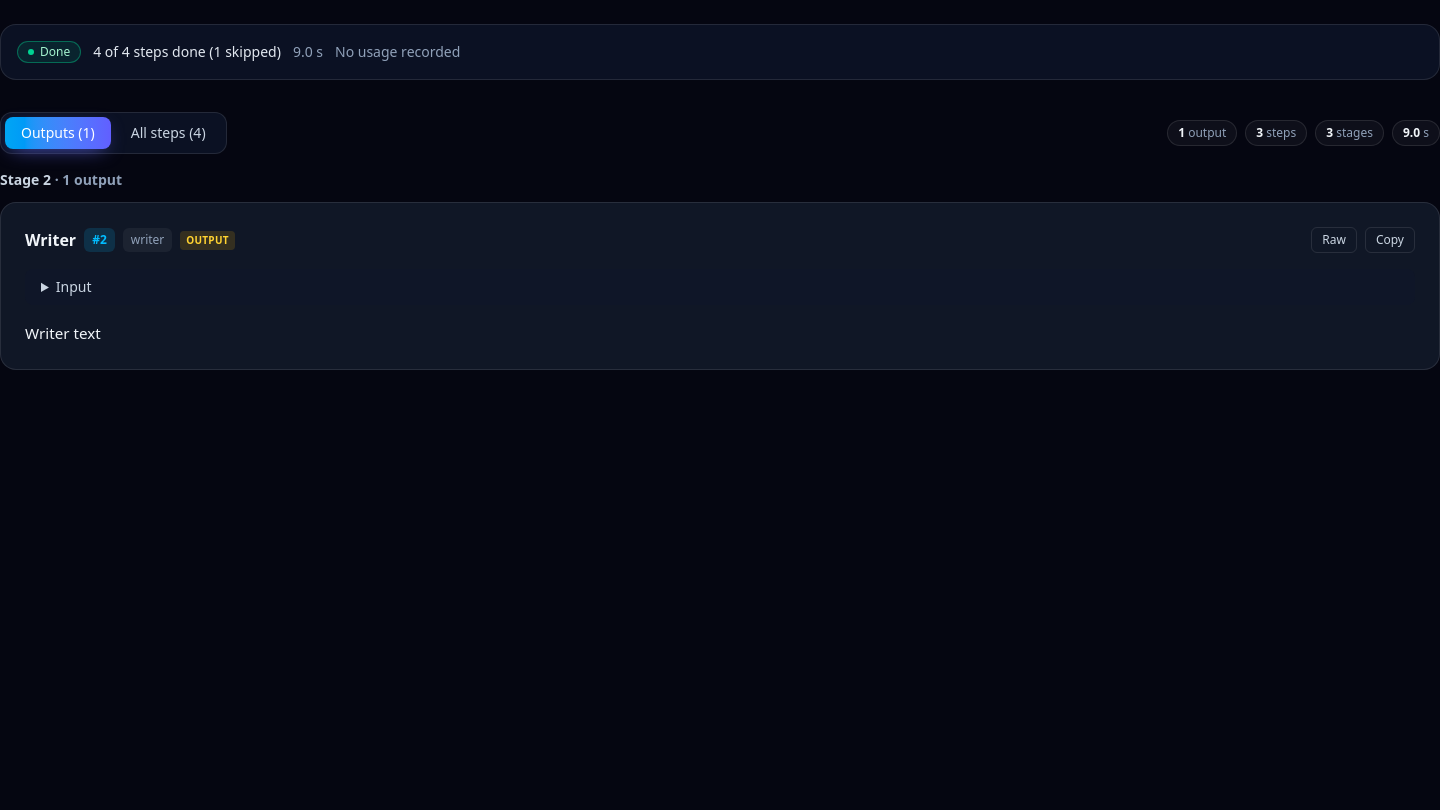
Test: LiveRun: skipped steps › does not offer a skipped step as an output, nor mark it as one
expect the tab "Outputs (1)" is shown: met, box 5,117 -> 111,149
Click the tab "All steps (4)": coordinates (168, 133) 115,117 -> 222,149
(page scrolled)
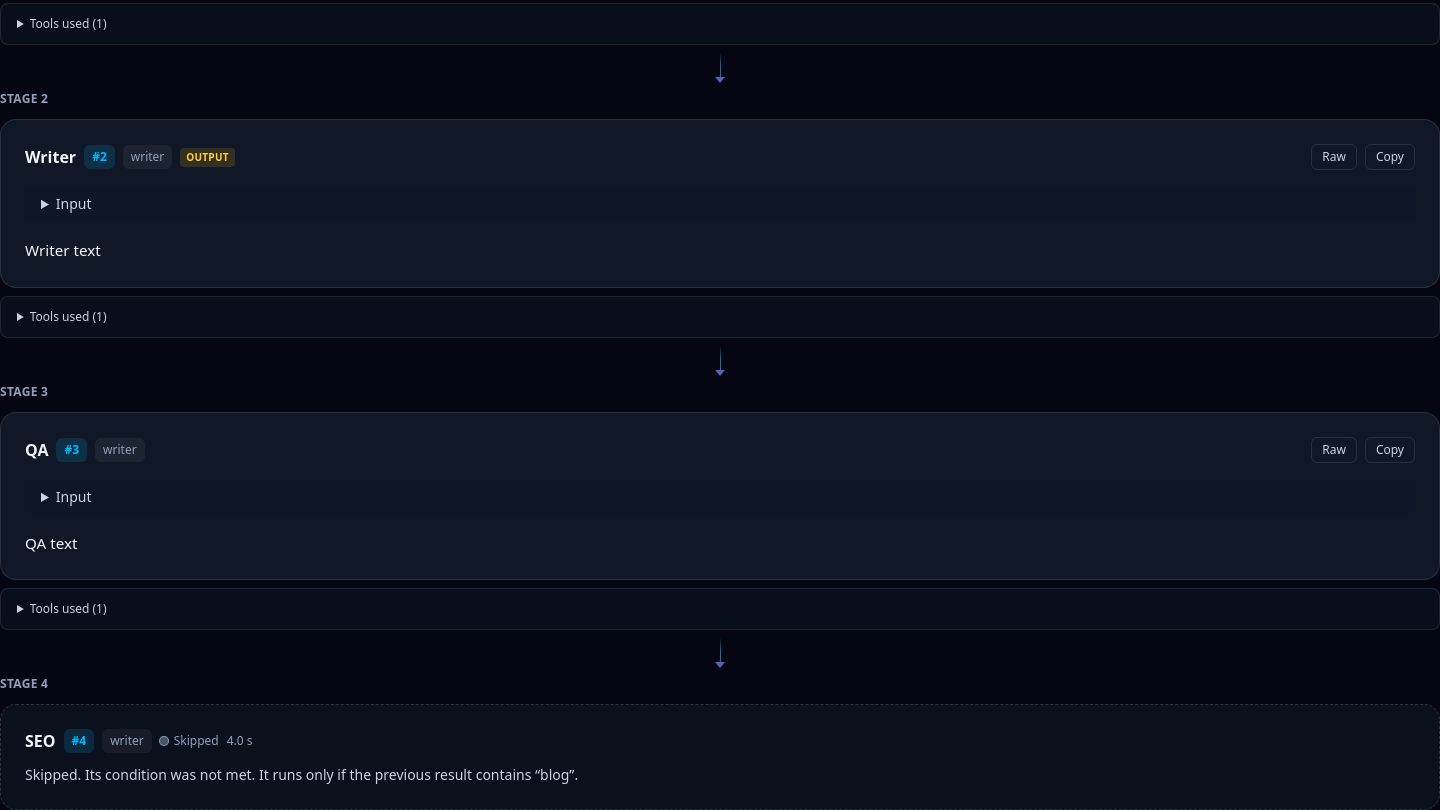
expect the text "Skipped" is shown: met, box 160,733 -> 219,749
